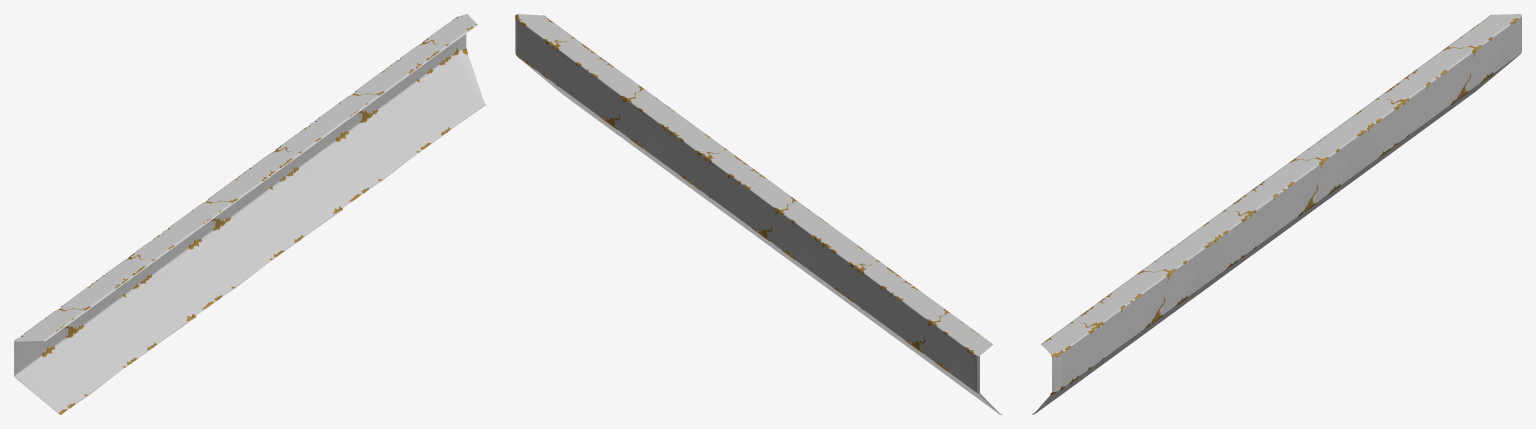
3 views of the same model, side by side, from view 1: azimuth 90°, elevation 25°; view 2: azimuth 150°, elevation 25°; view 3: azimuth 270°, elevation 25° (orthographic). The views are drawn at different scales.
Parts seen in each view (by area): view 1: SM_Nightmare_Crucible_Arena_BorderD_01v1_LOD0; view 2: SM_Nightmare_Crucible_Arena_BorderD_01v1_LOD0; view 3: SM_Nightmare_Crucible_Arena_BorderD_01v1_LOD0.
Part boxes in pixels (x1=…): SM_Nightmare_Crucible_Arena_BorderD_01v1_LOD0: x1=14, y1=14, x2=486, y2=414; SM_Nightmare_Crucible_Arena_BorderD_01v1_LOD0: x1=515, y1=14, x2=1001, y2=414; SM_Nightmare_Crucible_Arena_BorderD_01v1_LOD0: x1=1031, y1=14, x2=1521, y2=414.
Bounding box in the file's own units: 121 × 12.76 × 73.6.
